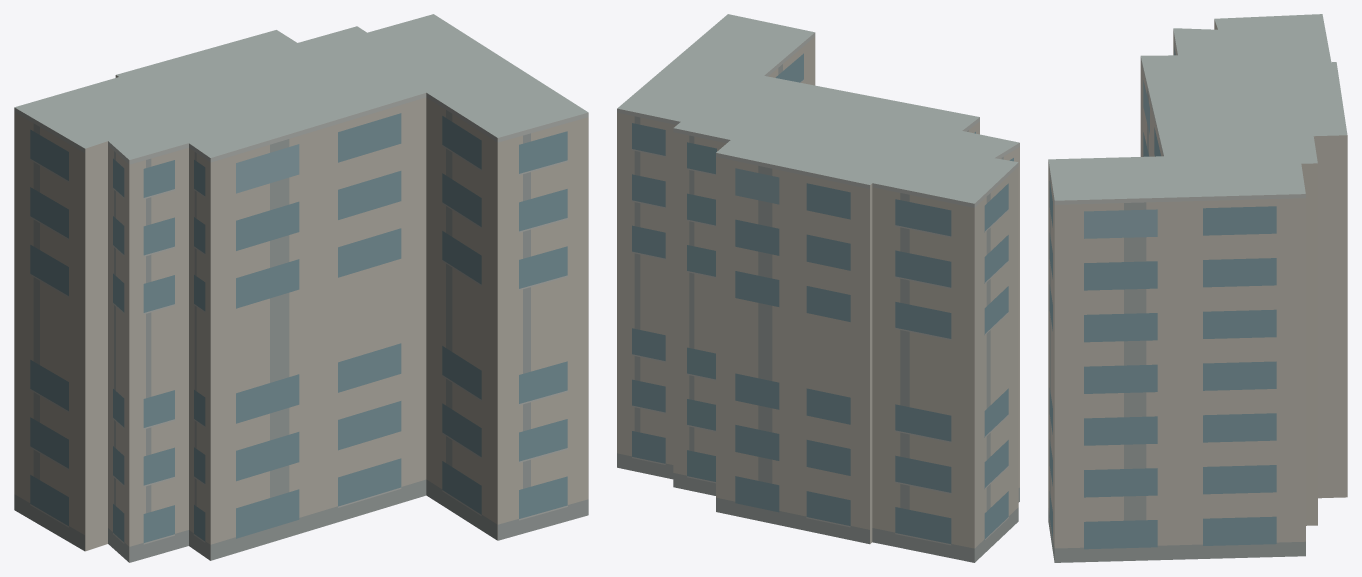
Rendered from survey-upis-33027776.glb.
The picture shows the model from 3 angles, left to right: view 1: azimuth 30°, elevation 25°; view 2: azimuth 150°, elevation 25°; view 3: azimuth 270°, elevation 25°; orthographic projection. The views are drawn at different scales.
Visible parts, largest first — view 1: survey-upis-33027776.tmp; view 2: survey-upis-33027776.tmp; view 3: survey-upis-33027776.tmp.
Boxes of the visible parts, box(x1,y1,x2,y2) form: survey-upis-33027776.tmp: box(14, 14, 588, 562); survey-upis-33027776.tmp: box(617, 14, 1019, 562); survey-upis-33027776.tmp: box(1048, 14, 1347, 562).
Size of the model in its own units: 23.62 by 21.35 by 15.99.
